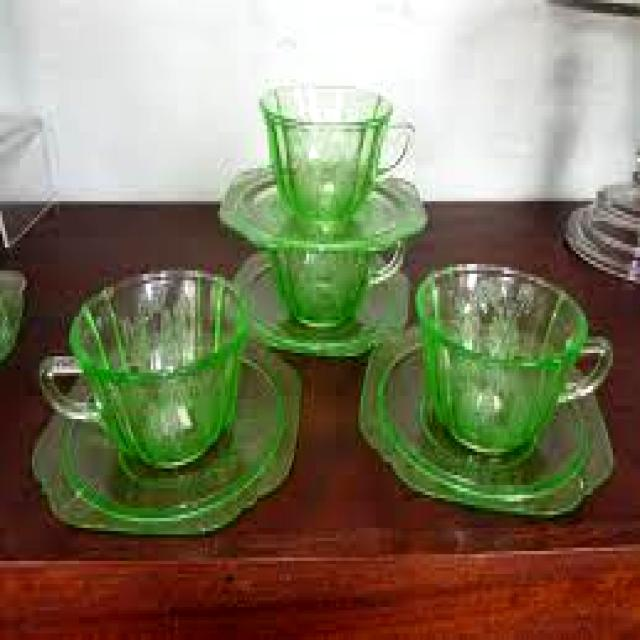Glass: (39, 268, 295, 523), (414, 263, 614, 449), (219, 81, 436, 249)
